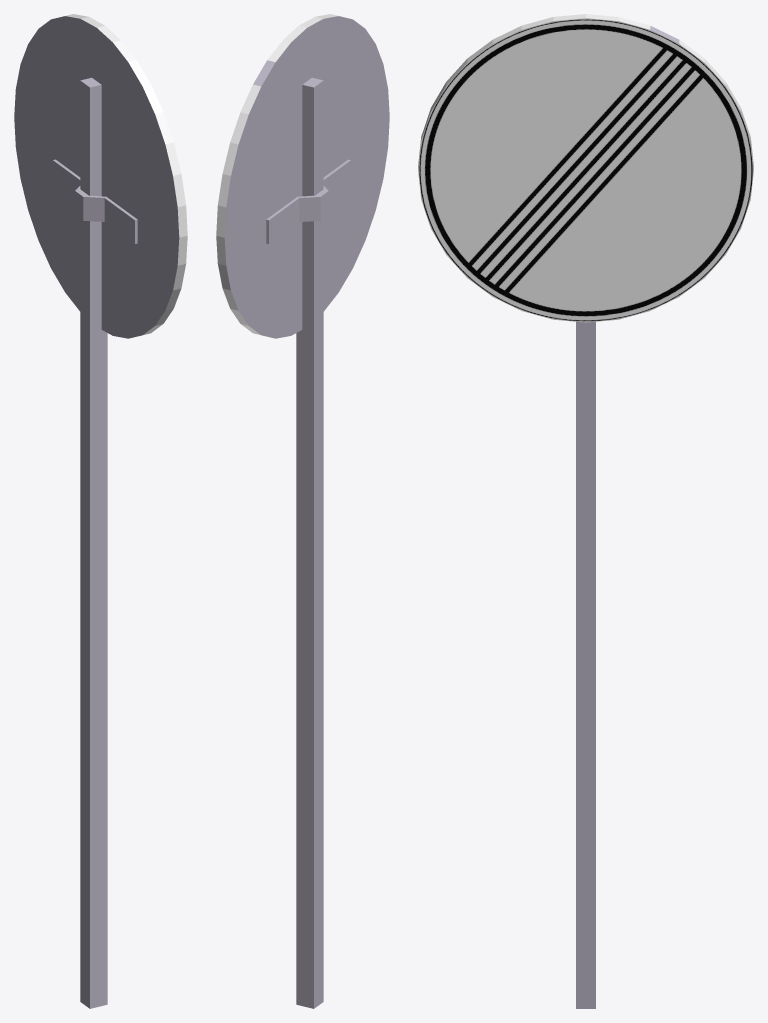
Rendered from cancelsign.fbx.
The picture shows the model from 3 angles, left to right: view 1: azimuth 30°, elevation 25°; view 2: azimuth 150°, elevation 25°; view 3: azimuth 270°, elevation 25°; orthographic projection.
Parts seen in each view (by area): view 1: Sign, Stand, Holder, Holder.001; view 2: Sign, Stand, Holder.001, Holder; view 3: Sign, Stand.
Part boxes in pixels (left/top/right/bottom): Sign: left=14, top=14, right=187, bottom=338; Stand: left=80, top=77, right=107, bottom=1008; Holder: left=79, top=192, right=137, bottom=243; Holder.001: left=53, top=159, right=84, bottom=217; Sign: left=216, top=14, right=389, bottom=338; Stand: left=296, top=77, right=323, bottom=1008; Holder.001: left=266, top=192, right=324, bottom=244; Holder: left=319, top=159, right=350, bottom=217; Sign: left=418, top=14, right=753, bottom=322; Stand: left=576, top=321, right=595, bottom=1008.
Size of the model in its own units: 18.2 by 652 by 200.
